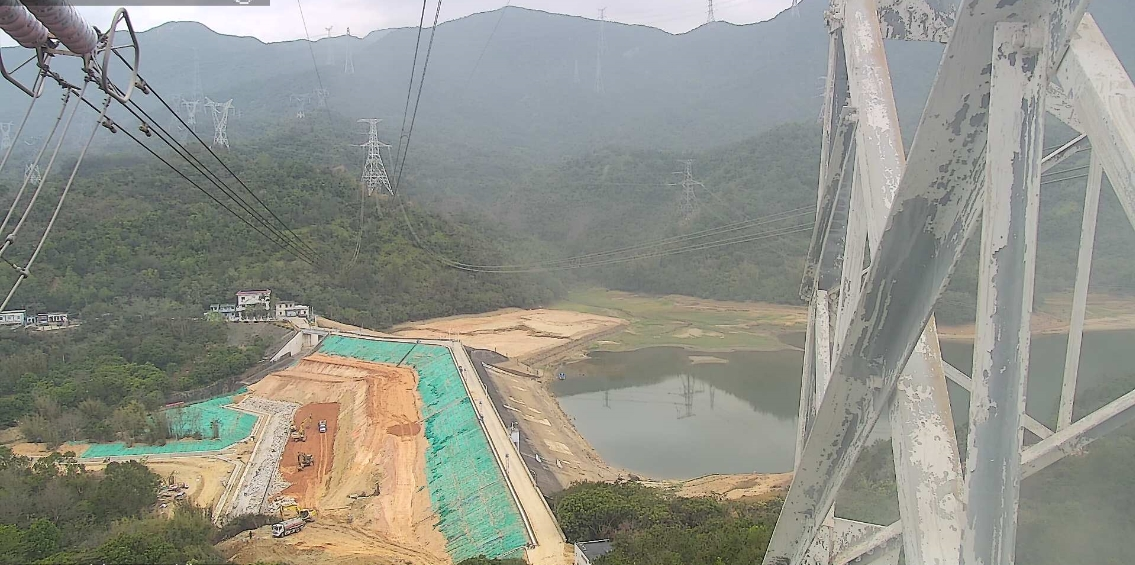山间云雾: (0, 0, 1134, 200), (403, 201, 701, 323)
